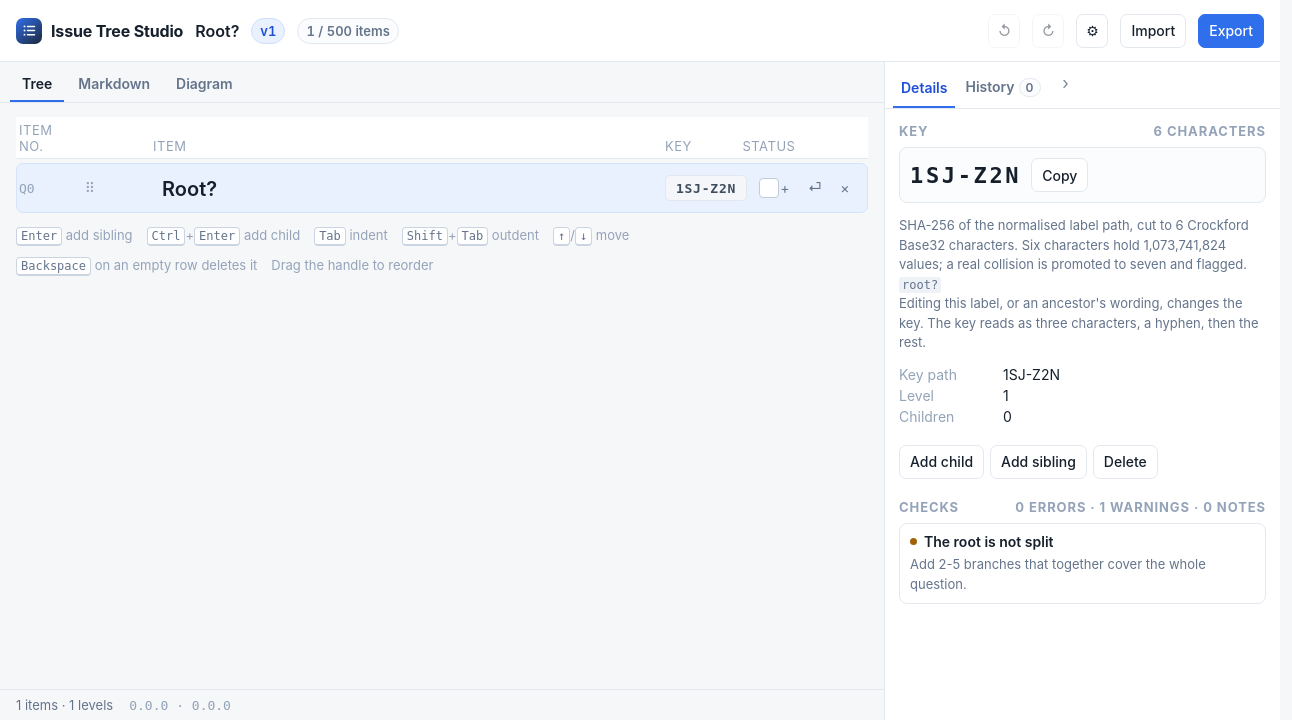
it: workspace shell › collapses the panel to a rail and opens details again
Expected: the number of list items is 1, x1=16 y1=163 x2=868 y2=213
Click the button named "Collapse panel" at (1066,83), box x1=1052 y1=70 x2=1078 y2=96
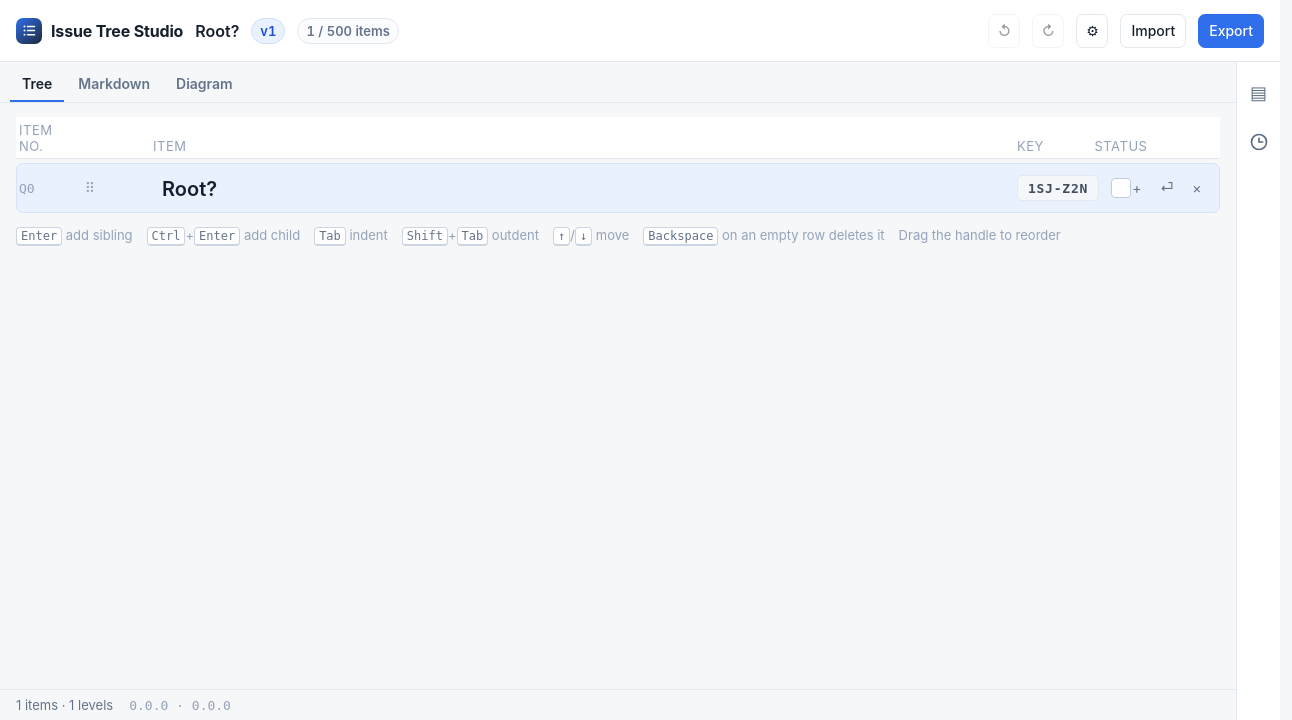
Now the button named "Open details" is shown
Click the button named "Open details" at (1258,92), box x1=1236 y1=70 x2=1280 y2=114
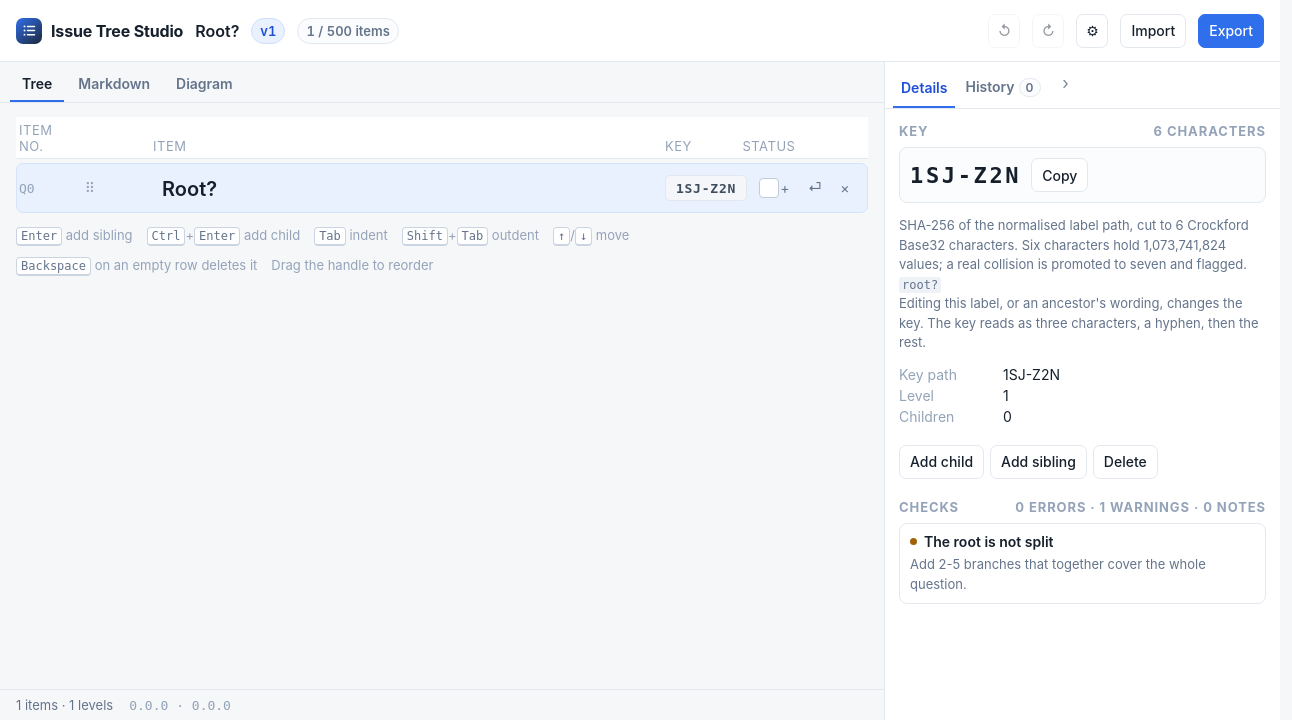
Now the tab "Details" is shown, box x1=893 y1=70 x2=956 y2=108
